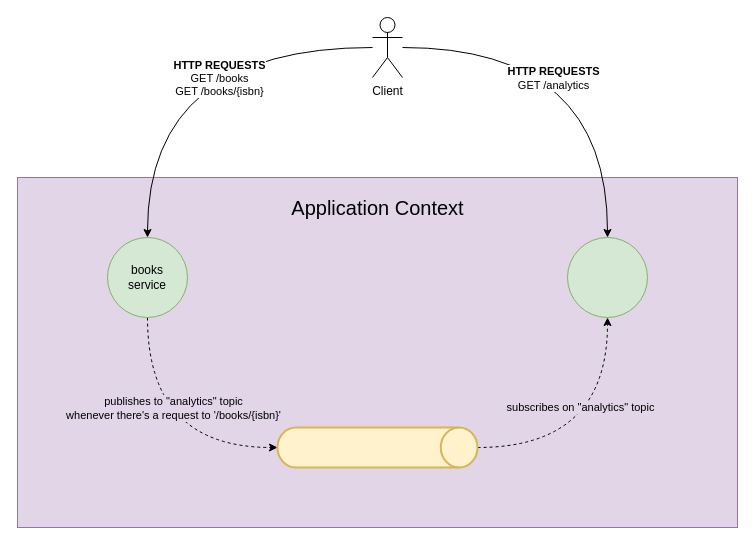
The diagram is 755 pixels wide and 545 high, and some of its shapes have lost their labels. The shapes that lost their labels are listed below. From the top down, each one's box as (x1, y1, x2, y2) in pixels, then its label:
(566, 236, 648, 318): analytics service
(276, 426, 478, 468): Kafka message broker
